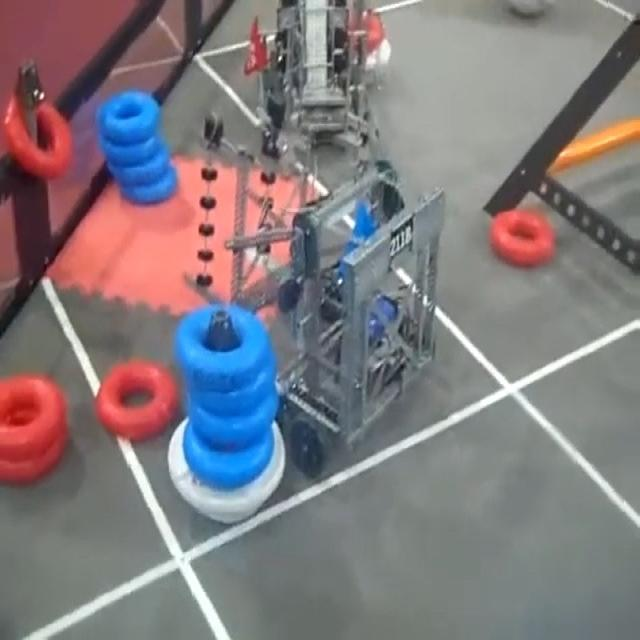Blue-Ring: (175, 305, 275, 391), (184, 425, 274, 489), (190, 388, 278, 450), (190, 367, 276, 417), (98, 90, 160, 144), (108, 147, 169, 186), (120, 165, 178, 202), (100, 135, 165, 166)
Red-Ring: (96, 360, 179, 439), (4, 95, 72, 178), (0, 375, 66, 459), (489, 208, 555, 267), (0, 434, 68, 482)
